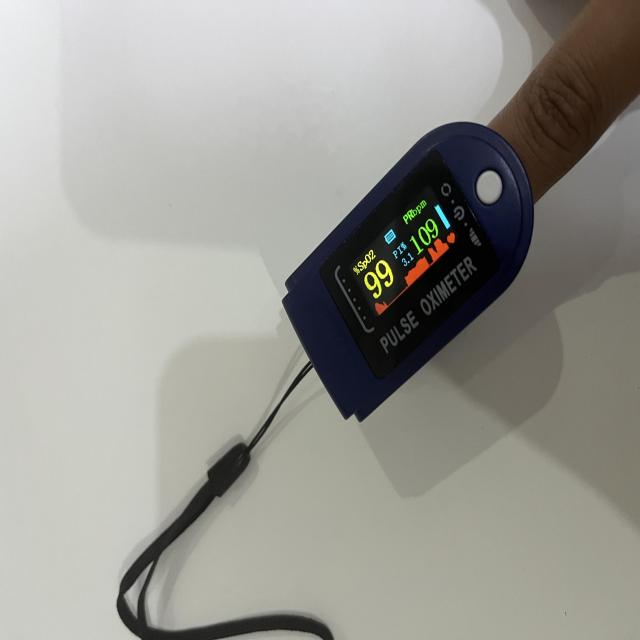spo2: (281, 124, 534, 422)
